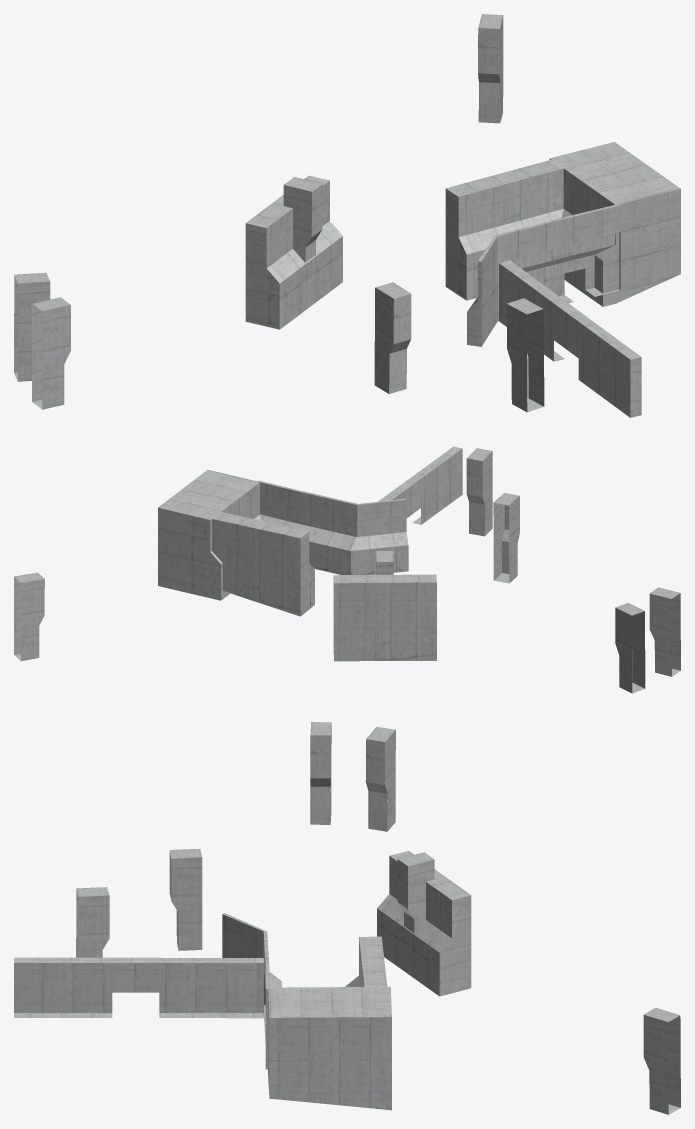
File: Map_3.fbx
3 views of the same model, one above another, from view 1: azimuth 30°, elevation 25°; view 2: azimuth 150°, elevation 25°; view 3: azimuth 270°, elevation 25° (orthographic). The views are drawn at different scales.
Visible parts, largest first — view 1: Map_03; view 2: Map_03; view 3: Map_03.
Boxes of the visible parts, x1,y1,x2,y2 form: Map_03: (14,14,680,417); Map_03: (14,446,680,693); Map_03: (14,722,680,1114).
Size of the model in its own units: 99.8 by 17.55 by 93.65.
Materials: 1 (1 with a texture image).
